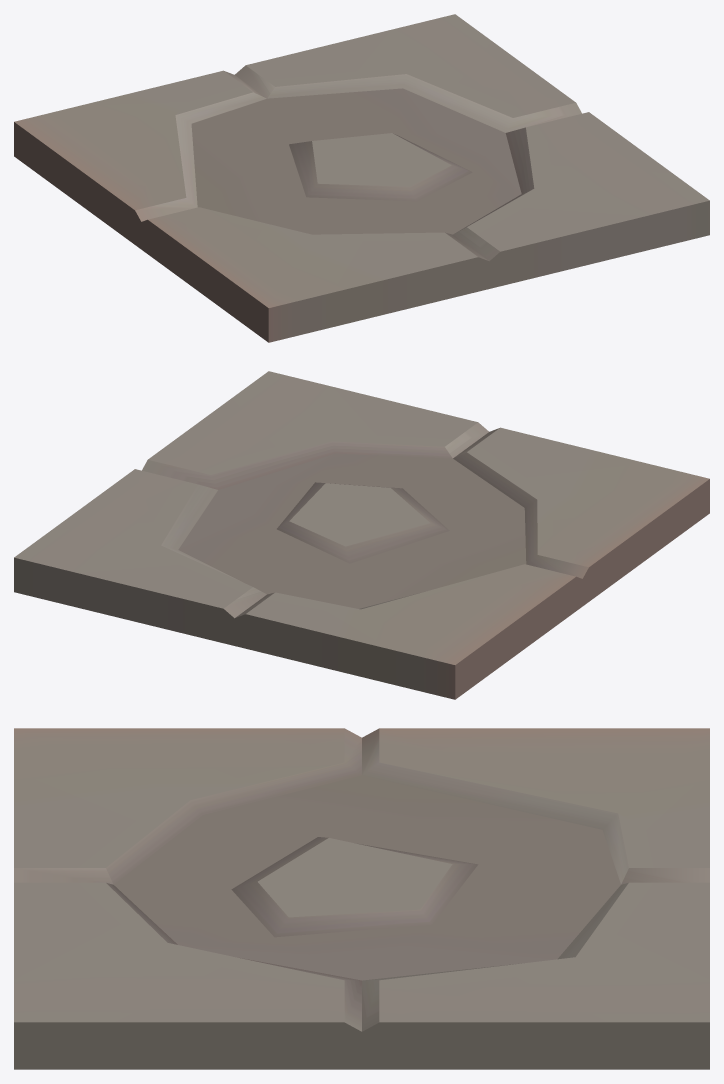
Rendered from floor_tile_small_broken_A.glb.
3 views of the same model, one above another, from view 1: azimuth 30°, elevation 25°; view 2: azimuth 150°, elevation 25°; view 3: azimuth 270°, elevation 25° (orthographic). The views are drawn at different scales.
Parts seen in each view (by area): view 1: floor_tile_small_broken_A; view 2: floor_tile_small_broken_A; view 3: floor_tile_small_broken_A.
Part boxes in pixels (bbox=[...]): floor_tile_small_broken_A: bbox=[14, 14, 709, 342]; floor_tile_small_broken_A: bbox=[14, 371, 709, 699]; floor_tile_small_broken_A: bbox=[14, 728, 709, 1069].
Bounding box in the file's own units: 2 × 0.1499 × 2.
Materials: 1 (1 with a texture image).
